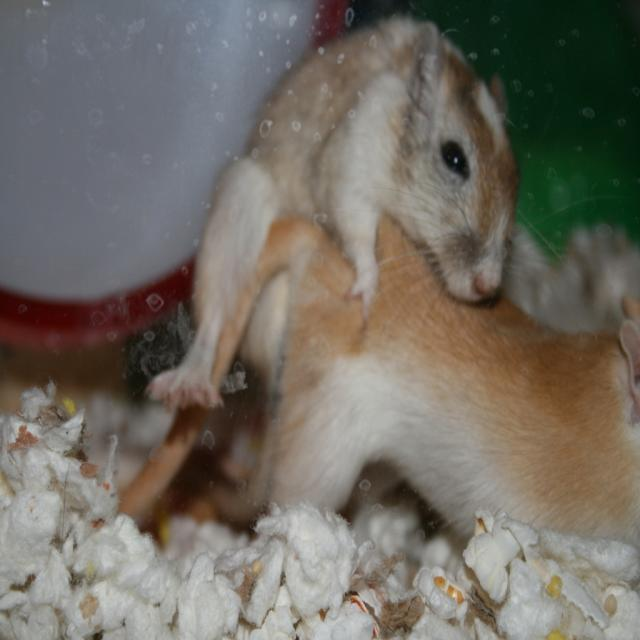rat: (110, 216, 640, 546), (146, 11, 522, 408)
